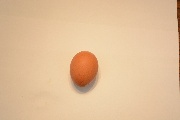egg: (69, 51, 98, 88)
